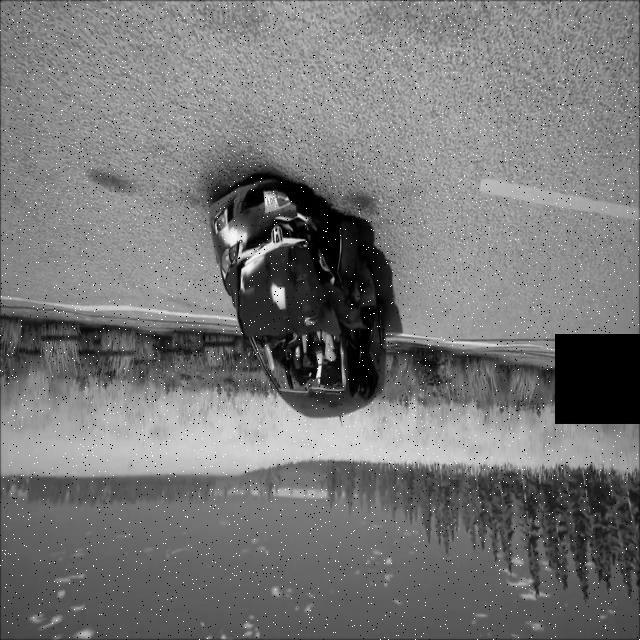severe: (202, 178, 390, 428)
